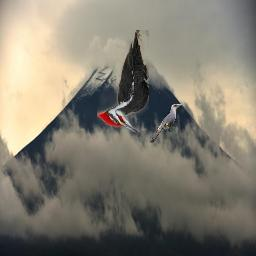Cuckoo: (150, 103, 183, 143)
Woodpecker: (97, 30, 149, 132)
